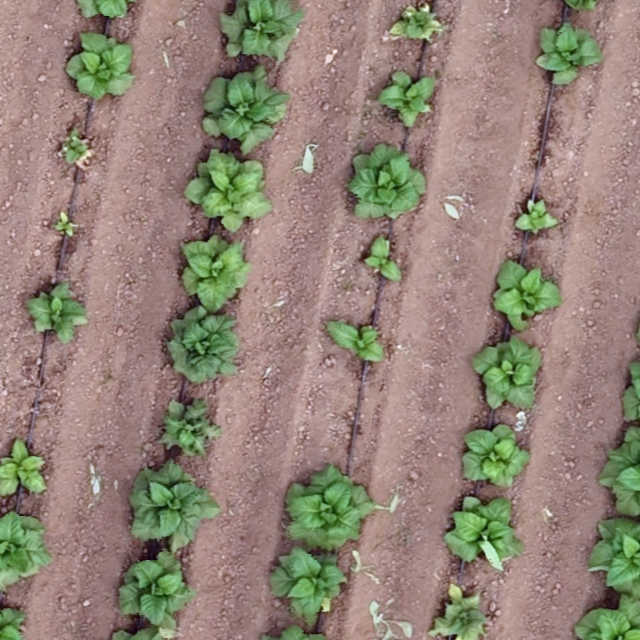healthy: (279, 462, 371, 555), (125, 459, 217, 551), (197, 63, 288, 150), (185, 144, 271, 231), (341, 138, 426, 225), (440, 487, 522, 572), (165, 304, 242, 386), (116, 547, 192, 629), (267, 543, 349, 617), (471, 331, 543, 414), (62, 26, 136, 104), (177, 230, 249, 310), (456, 415, 529, 490), (218, 1, 302, 65), (488, 255, 561, 328), (586, 510, 640, 599), (533, 18, 602, 86), (155, 394, 219, 459), (1, 504, 50, 587), (598, 426, 640, 522), (24, 279, 87, 342), (375, 66, 437, 127), (429, 581, 491, 639), (324, 312, 386, 367), (1, 438, 48, 500), (574, 596, 640, 640), (388, 1, 447, 48), (361, 233, 403, 284), (512, 197, 558, 240), (68, 1, 140, 25), (619, 356, 640, 434), (56, 123, 92, 168), (257, 621, 334, 640), (1, 592, 28, 639), (100, 625, 180, 640), (50, 212, 83, 240), (553, 1, 608, 14)
